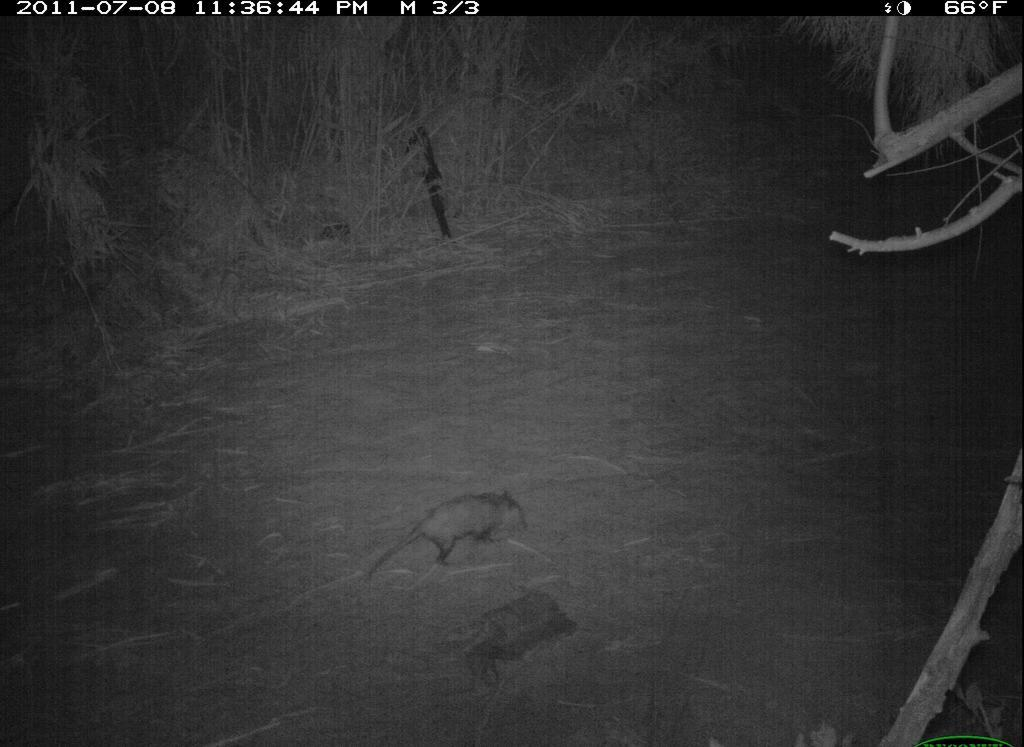opossum: (356, 478, 560, 592)
